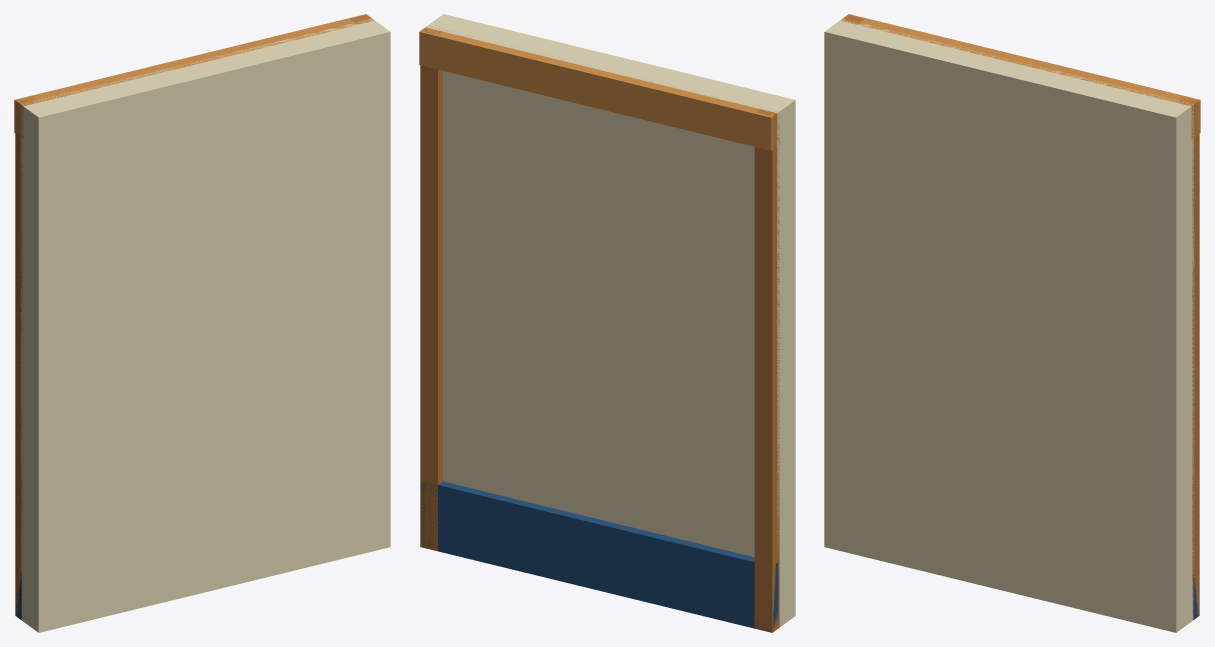
File: wall.glb
3 renders of one model, left to right at view 1: azimuth 30°, elevation 25°; view 2: azimuth 150°, elevation 25°; view 3: azimuth 330°, elevation 25°, orthographic.
Visible parts, largest first — view 1: Shared_wall; view 2: Shared_wall; view 3: Shared_wall.
Part boxes in pixels (x1,y1,x2,y2): Shared_wall: (14, 14, 390, 632); Shared_wall: (419, 14, 795, 632); Shared_wall: (824, 14, 1200, 632).
Bounding box in the file's own units: 2 × 2.8 × 0.24.
